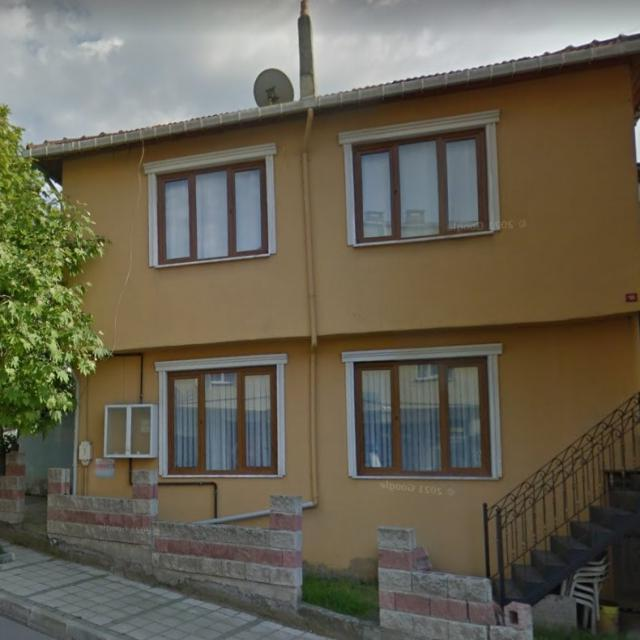Building: (25, 35, 640, 580)
